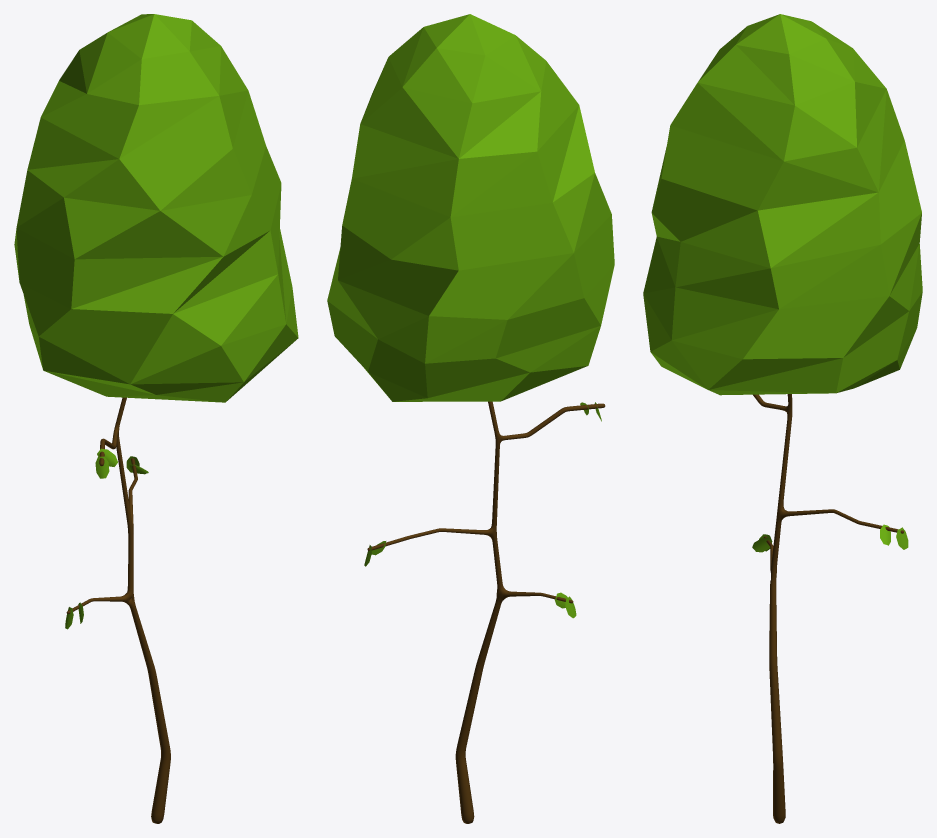
The model's file is LittleTreeMK2.fbx.
3 views of the same model, side by side, from view 1: azimuth 30°, elevation 25°; view 2: azimuth 150°, elevation 25°; view 3: azimuth 270°, elevation 25° (orthographic).
Visible parts, largest first — view 1: LeavesMK5, Cube; view 2: LeavesMK5, Cube; view 3: LeavesMK5, Cube.
Boxes of the visible parts, bbox=[...] form: LeavesMK5: bbox=[14, 14, 298, 402]; Cube: bbox=[66, 397, 170, 823]; LeavesMK5: bbox=[327, 14, 614, 401]; Cube: bbox=[367, 401, 605, 823]; LeavesMK5: bbox=[643, 14, 922, 395]; Cube: bbox=[753, 394, 903, 823].
Size of the model in its own units: 172 by 537 by 168.
